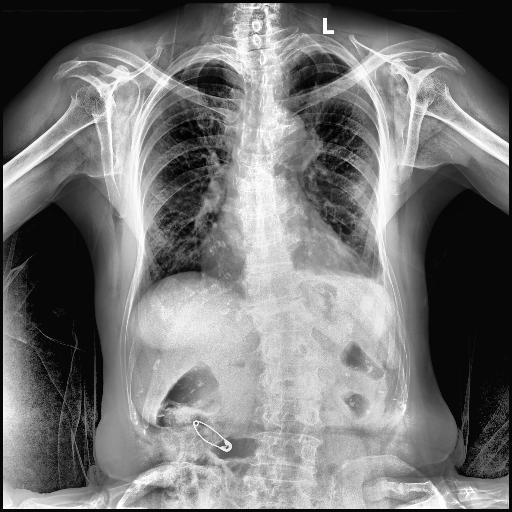0- Aortic enlargement: (258, 106, 308, 158), (262, 107, 308, 158), (270, 110, 306, 155)
10- Pleural effusion: (372, 270, 388, 292), (373, 268, 389, 286)
11- Pleural thickening: (173, 56, 231, 74), (372, 270, 388, 292), (373, 268, 389, 286), (300, 46, 322, 56)
13- Pulmonary fibrosis: (194, 111, 217, 141)
3- Cardiomegaly: (200, 236, 358, 302), (200, 237, 360, 295), (200, 232, 360, 286)
